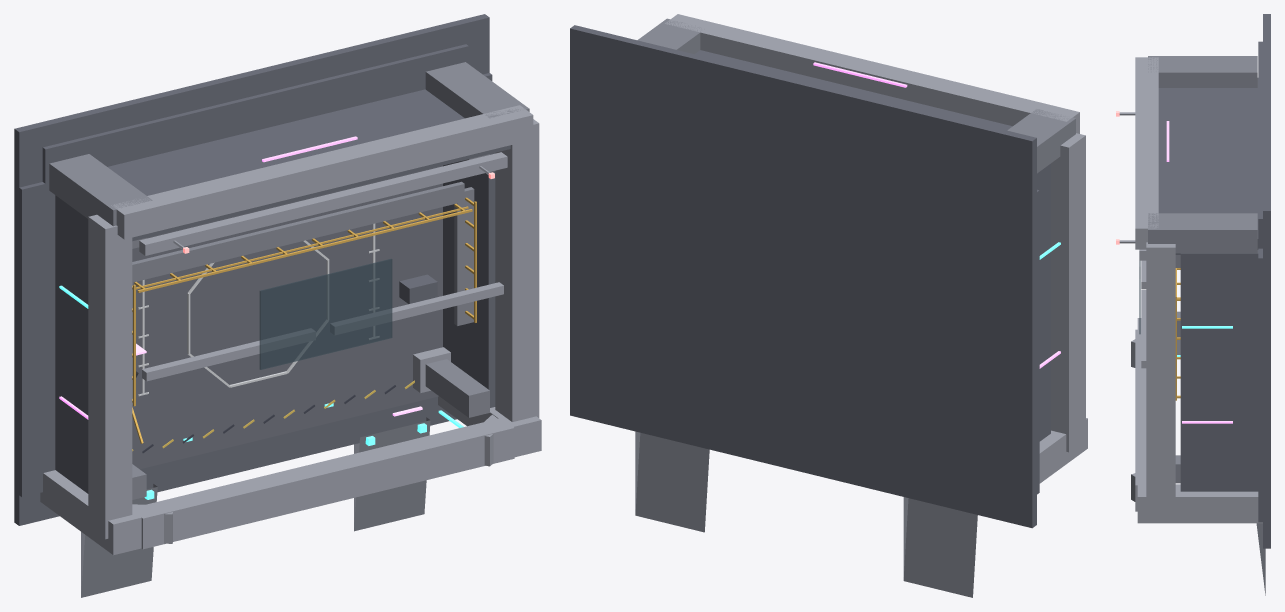
File: cyberpunk_trimesh_hangar.glb
3 views of the same model, side by side, from view 1: azimuth 30°, elevation 25°; view 2: azimuth 150°, elevation 25°; view 3: azimuth 270°, elevation 25° (orthographic). The views are drawn at different scales.
Parts seen in each view (by area): view 1: main landing floor, single slab base - beveled-looking platform, front top arch beam, rear exterior upper cap, rear wall mass, rear exterior ledge, left upper roof side beam, right upper roof side beam, left exterior ledge, dark glass roof insert, left side wall lower, upper catwalk deck (+16 smaller); view 2: single slab base - beveled-looking platform, rear exterior upper cap, left upper roof side beam, left front vehicle ramp, right front vehicle ramp, left side wall lower, rear exterior left buttress, rear wall mass, front left vertical arch block, rear exterior right buttress, left exterior ledge; view 3: right side wall lower, rear wall mass, right upper roof side beam, rear exterior upper cap, single slab base - beveled-looking platform, rear exterior right buttress, front right vertical arch block, rear exterior left buttress, front top arch beam, right exterior ledge, rear exterior ledge, right roof cross beam (+1 smaller).
Part boxes in pixels (x1=…): main landing floor: x1=132, y1=165, x2=442, y2=469; single slab base - beveled-looking platform: x1=14, y1=14, x2=489, y2=525; front top arch beam: x1=132, y1=418, x2=514, y2=549; rear exterior upper cap: x1=111, y1=105, x2=533, y2=239; rear wall mass: x1=108, y1=89, x2=510, y2=241; rear exterior ledge: x1=42, y1=44, x2=468, y2=183; left upper roof side beam: x1=88, y1=214, x2=132, y2=539; right upper roof side beam: x1=495, y1=119, x2=539, y2=421; left exterior ledge: x1=19, y1=182, x2=55, y2=497; dark glass roof insert: x1=259, y1=258, x2=392, y2=369; left side wall lower: x1=55, y1=195, x2=88, y2=493; upper catwalk deck: x1=132, y1=181, x2=464, y2=282; single slab base - beveled-looking platform: x1=570, y1=25, x2=1036, y2=528; rear exterior upper cap: x1=665, y1=14, x2=1079, y2=133; left upper roof side beam: x1=1051, y1=133, x2=1085, y2=452; left front vehicle ramp: x1=903, y1=497, x2=977, y2=597; right front vehicle ramp: x1=635, y1=431, x2=709, y2=532; left side wall lower: x1=1037, y1=163, x2=1050, y2=441; rear exterior left buttress: x1=1007, y1=109, x2=1075, y2=173; rear wall mass: x1=695, y1=50, x2=1012, y2=130; front left vertical arch block: x1=1039, y1=418, x2=1087, y2=483; rear exterior right buttress: x1=637, y1=18, x2=704, y2=54; left exterior ledge: x1=1036, y1=189, x2=1039, y2=494; right side wall lower: x1=1180, y1=250, x2=1258, y2=491; rear wall mass: x1=1158, y1=78, x2=1258, y2=254; right upper roof side beam: x1=1146, y1=242, x2=1175, y2=513; rear exterior upper cap: x1=1135, y1=57, x2=1158, y2=249; single slab base - beveled-looking platform: x1=1263, y1=14, x2=1270, y2=548; rear exterior right buttress: x1=1148, y1=213, x2=1257, y2=253; front right vertical arch block: x1=1137, y1=484, x2=1262, y2=523; rear exterior left buttress: x1=1148, y1=56, x2=1257, y2=87; front top arch beam: x1=1135, y1=329, x2=1146, y2=511; right exterior ledge: x1=1258, y1=248, x2=1263, y2=522; rear exterior ledge: x1=1258, y1=41, x2=1262, y2=248; right roof cross beam: x1=1141, y1=290, x2=1146, y2=368.
Size of the model in its own units: 20 by 19.6 by 6.66.
